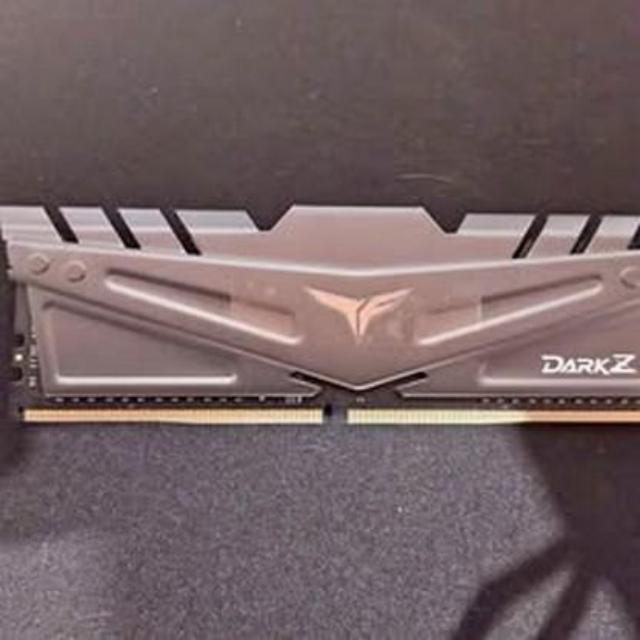RAM: (0, 178, 640, 444)
